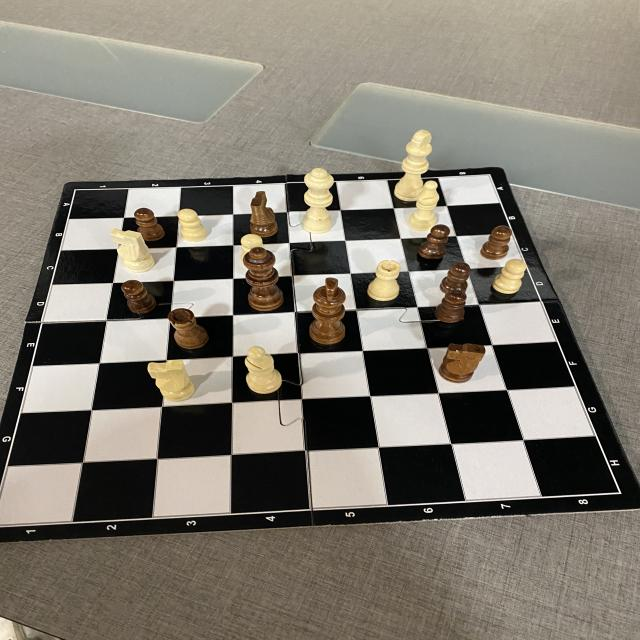Black-King: (308, 277, 348, 346)
Black-Knight: (438, 343, 486, 383), (250, 191, 277, 238)
Black-Pawn: (121, 280, 157, 313), (417, 224, 450, 260), (481, 225, 512, 259), (133, 208, 164, 240), (440, 262, 470, 294), (436, 290, 466, 322)
Black-Queen: (244, 246, 283, 311)
Black-Rook: (168, 308, 208, 348)
White-Bishop: (109, 228, 154, 272), (148, 358, 193, 400), (246, 346, 282, 393), (409, 180, 440, 232)
White-King: (395, 129, 432, 201)
White-Pawn: (492, 258, 527, 294), (179, 208, 206, 241), (241, 234, 264, 259)
White-Queen: (302, 168, 333, 232)
White-Rook: (368, 260, 403, 301)
